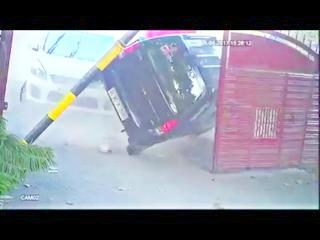Car: (101, 38, 220, 156), (19, 31, 116, 116)
Major Accident: (17, 31, 221, 159)
